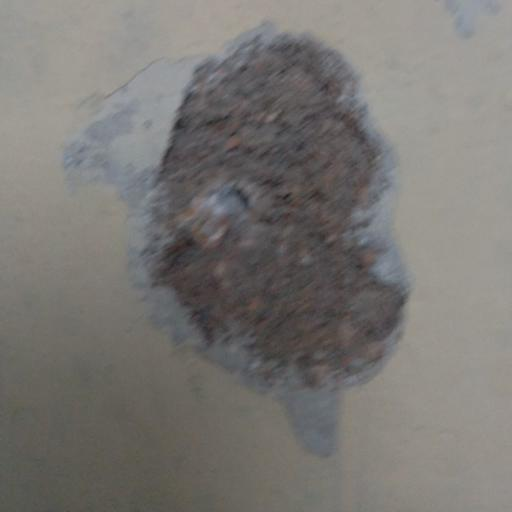spalling: (56, 23, 430, 414)
